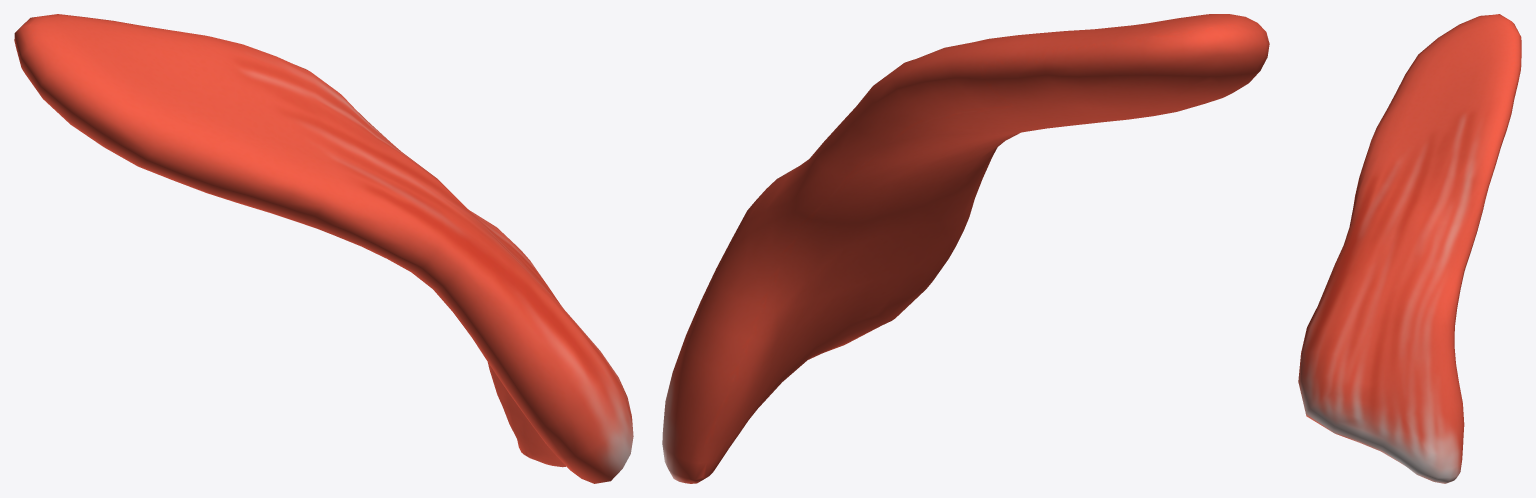
The model's file is Temporal 2.glb.
3 views of the same model, side by side, from view 1: azimuth 30°, elevation 25°; view 2: azimuth 150°, elevation 25°; view 3: azimuth 270°, elevation 25° (orthographic). The views are drawn at different scales.
Parts seen in each view (by area): view 1: Temporal 2.glb; view 2: Temporal 2.glb; view 3: Temporal 2.glb.
Boxes of the visible parts, bbox=[...] form: Temporal 2.glb: bbox=[14, 14, 633, 483]; Temporal 2.glb: bbox=[662, 14, 1269, 483]; Temporal 2.glb: bbox=[1298, 14, 1521, 483].
Size of the model in its own units: 0.0836 by 0.08 by 0.0501.
Materials: 1 (1 with a texture image).
